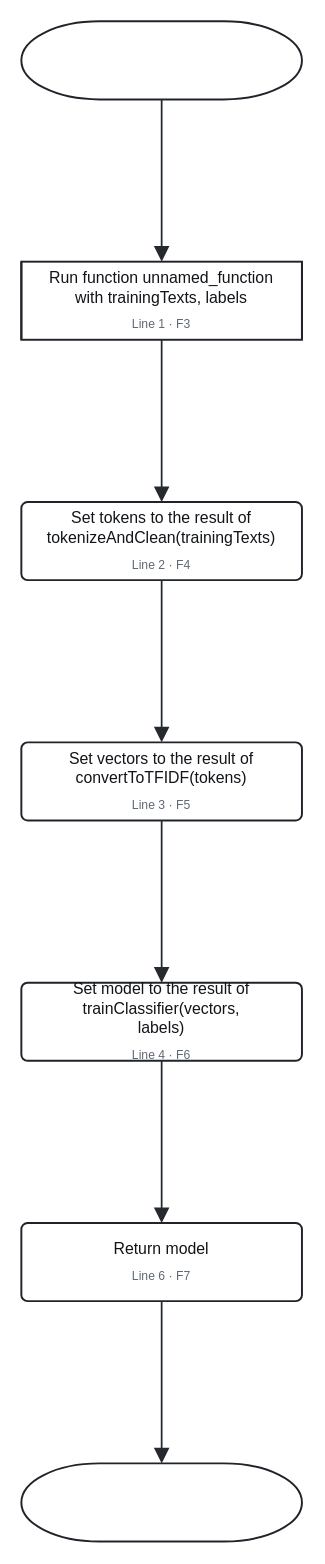
The diagram is 325 pixels wide and 1564 high, and some of its shapes have lost their labels. The shapes that lost their labels are listed below. From the top down, each one's box as (x1, y1, x2, y2) in pixels, then its label:
(20, 20, 302, 100): Start Line 1 · F1
(20, 1462, 302, 1542): End Line 1 · F2
